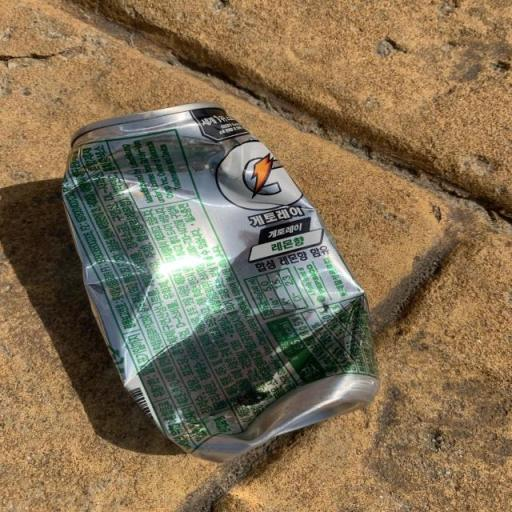metal: (5, 80, 411, 484)
